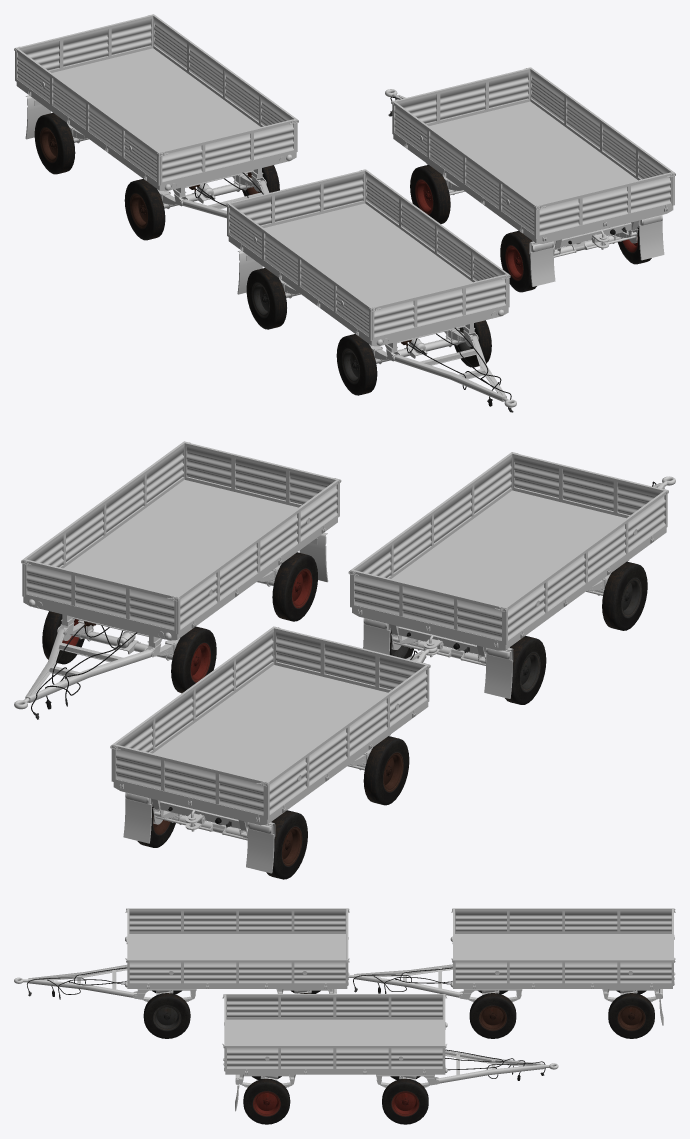
Rendered from D46_pack.fbx.
3 views of the same model, one above another, from view 1: azimuth 30°, elevation 25°; view 2: azimuth 150°, elevation 25°; view 3: azimuth 270°, elevation 25° (orthographic). The views are drawn at different scales.
Parts seen in each view (by area): view 1: D46_body, D46_body.002, D46_body.001, wheels, wheels.001, wheels.002, D46_cables; view 2: D46_body.002, D46_body.001, D46_body, wheels.002, wheels.001, wheels, D46_cables.002; view 3: D46_body.002, D46_body.001, D46_body, wheels.001, wheels.002, wheels, D46_cables, D46_cables.001, D46_cables.002.
Boxes of the visible parts, bbox=[...] form: D46_body: bbox=[226, 169, 516, 407]; D46_body.002: bbox=[385, 67, 675, 286]; D46_body.001: bbox=[14, 14, 298, 218]; wheels: bbox=[246, 268, 491, 395]; wheels.001: bbox=[34, 113, 279, 240]; wheels.002: bbox=[410, 165, 651, 292]; D46_cables: bbox=[401, 327, 513, 412]; D46_body.002: bbox=[14, 441, 341, 709]; D46_body.001: bbox=[110, 626, 437, 873]; D46_body: bbox=[348, 452, 675, 698]; wheels.002: bbox=[42, 552, 317, 693]; wheels.001: bbox=[137, 736, 409, 879]; wheels: bbox=[389, 561, 647, 704]; D46_cables.002: bbox=[31, 621, 137, 719]; D46_body.002: bbox=[222, 994, 558, 1111]; D46_body.001: bbox=[348, 908, 675, 1025]; D46_body: bbox=[14, 908, 349, 1002]; wheels.001: bbox=[469, 990, 654, 1038]; wheels.002: bbox=[243, 1076, 428, 1124]; wheels: bbox=[143, 990, 320, 1038]; D46_cables: bbox=[27, 967, 126, 999]; D46_cables.001: bbox=[353, 967, 452, 993]; D46_cables.002: bbox=[445, 1049, 545, 1080].
Bounding box in the file's own units: 596 × 163 × 1206.
